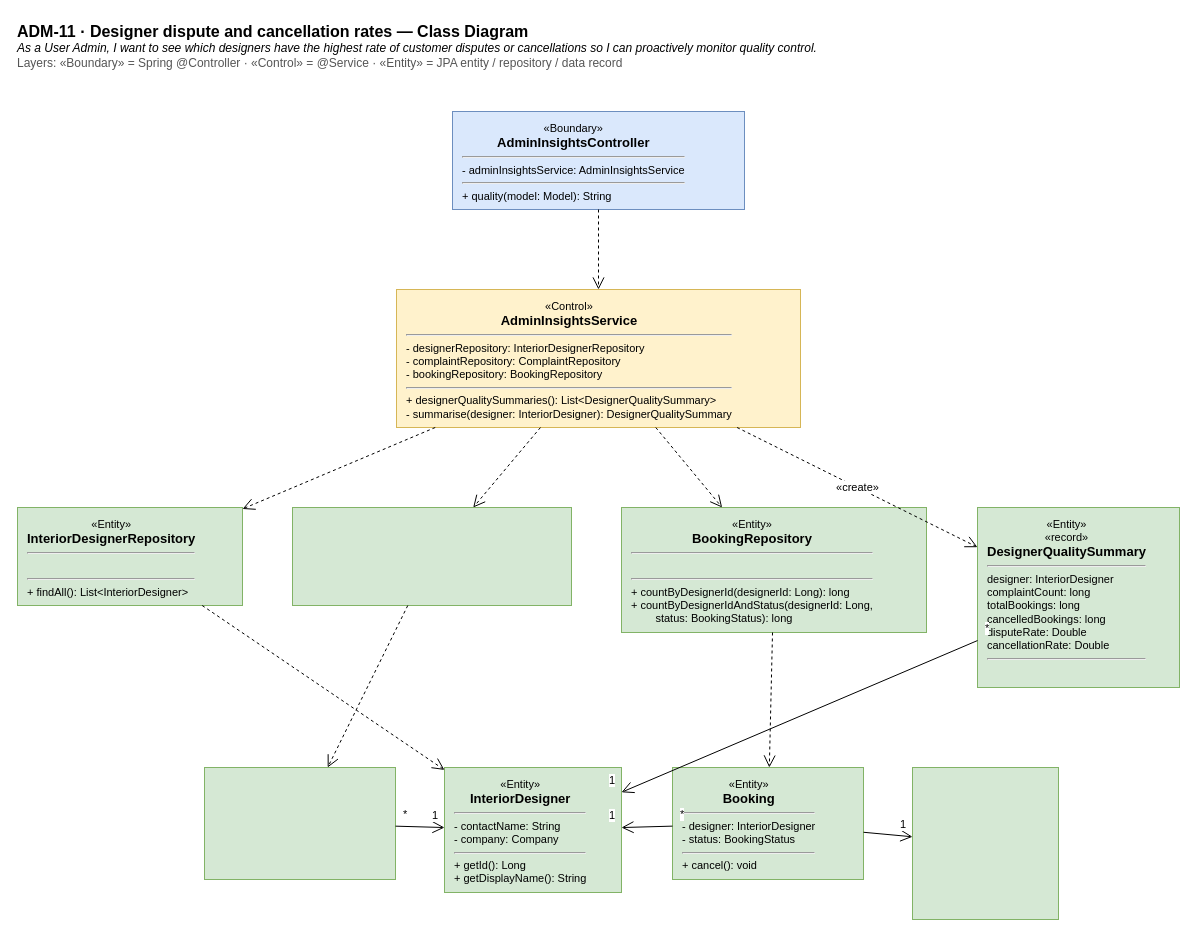
The diagram is 1197 pixels wide and 937 high, and some of its shapes have lost their labels. Each missing label, with the box of its shape:
«Entity» Complaint - designer: InteriorDesigner - status: ComplaintStatus: (204, 766, 396, 880)
«Entity» ComplaintRepository + countByDesignerId(designerId: Long): long: (292, 506, 572, 606)
«Entity» «enumeration» BookingStatus PENDING ACCEPTED DECLINED CANCELLED: (912, 766, 1058, 920)
